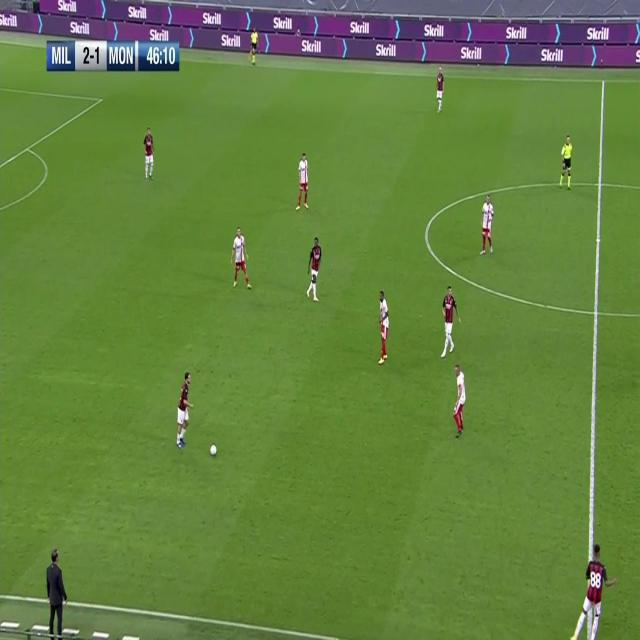ball: (208, 441, 218, 457)
player: (573, 542, 617, 639), (46, 546, 68, 640), (174, 370, 194, 450), (440, 284, 461, 358), (230, 226, 252, 292), (451, 362, 467, 439), (304, 235, 322, 303), (376, 289, 390, 366), (479, 193, 495, 257), (294, 150, 310, 212), (558, 133, 574, 191), (142, 126, 156, 183), (435, 65, 445, 115), (248, 23, 259, 67)
